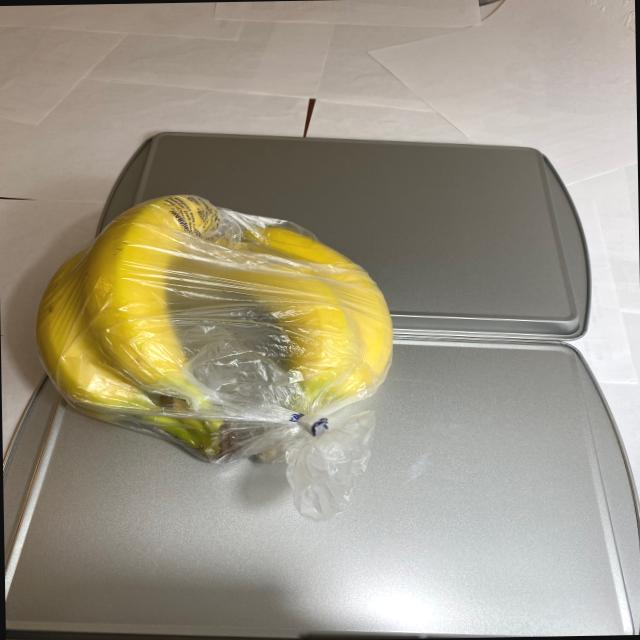banana: (30, 187, 398, 477)
